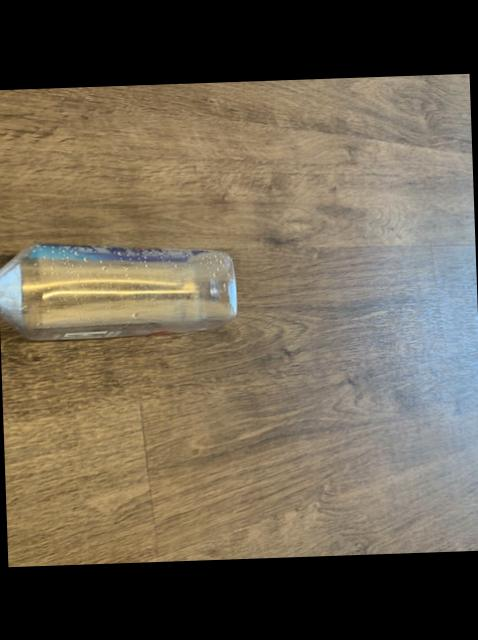plastic: (0, 245, 239, 340)
